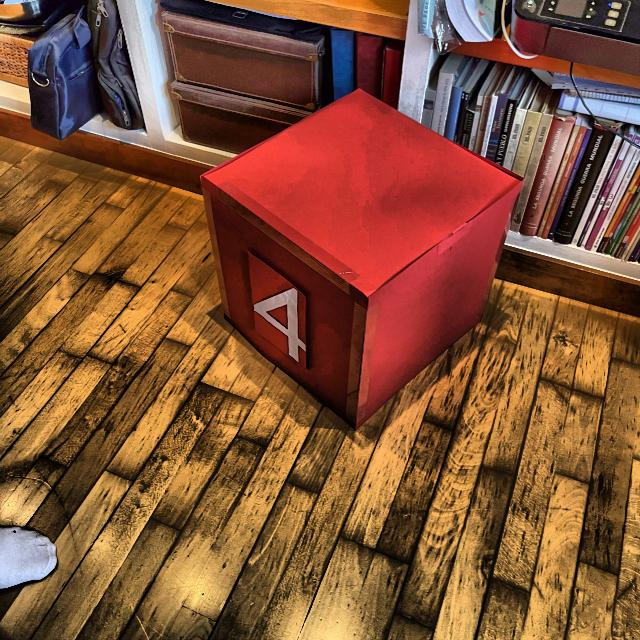four: (252, 282, 308, 363)
red box: (210, 86, 516, 429)
